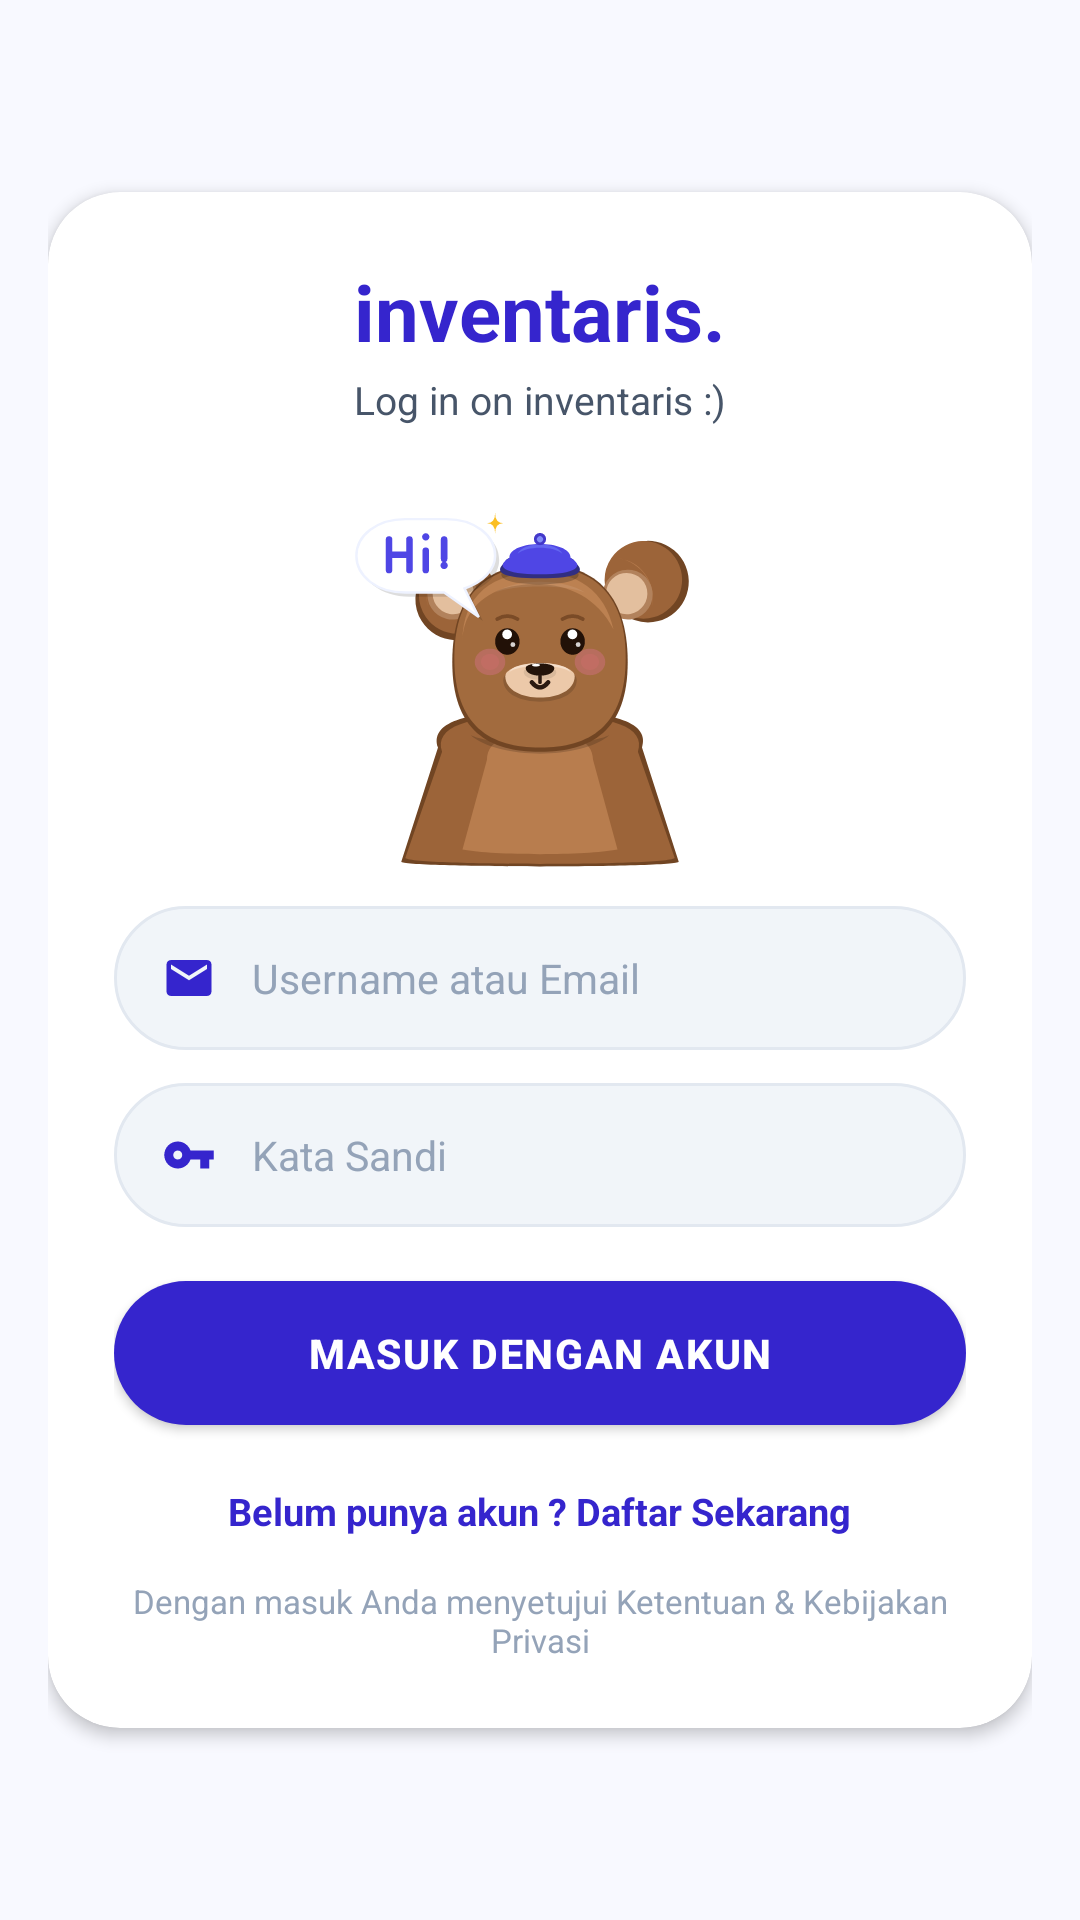

Point at icon controls on the screen. Image size 1080*1920, points as [x,y].
Maskot Beruang 3D: [534,690]
Password Icon: [189,1155]
